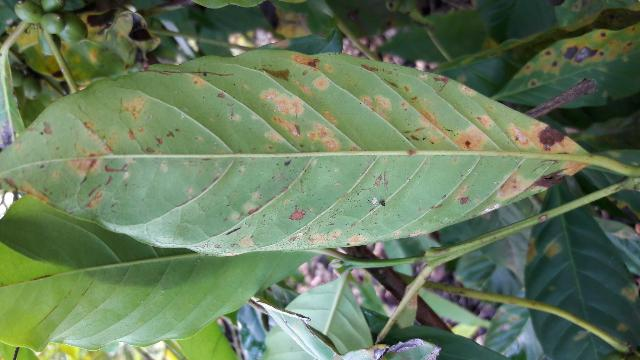rust_level_4: (0, 50, 602, 259)
